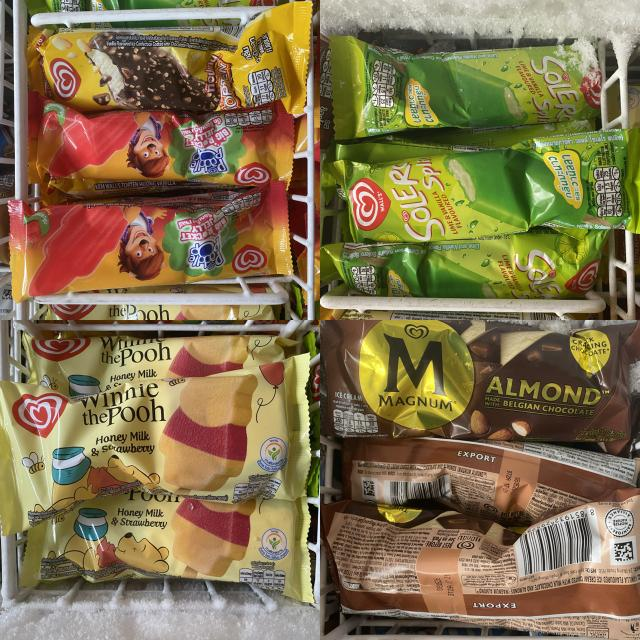plastik: (0, 355, 310, 534), (322, 489, 640, 640), (321, 314, 640, 454), (330, 130, 640, 242), (9, 181, 291, 301), (21, 491, 310, 600), (39, 2, 311, 113), (329, 35, 601, 140), (342, 439, 640, 525), (29, 91, 294, 185), (325, 229, 606, 299), (22, 334, 296, 396)
